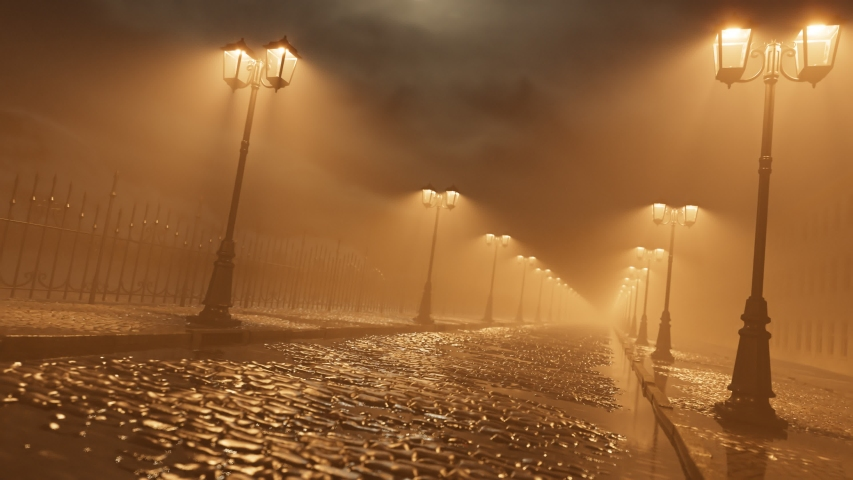Lamp: (697, 19, 841, 420), (167, 21, 294, 339), (631, 194, 707, 364), (401, 179, 458, 339)
